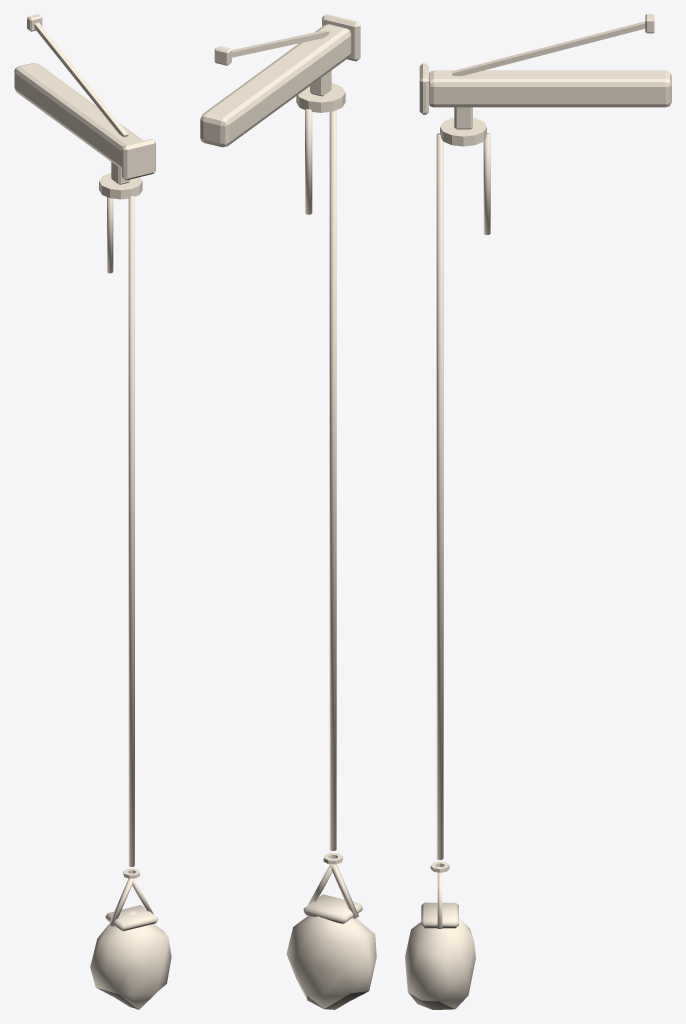
File: SM_VK_Prop_HoistBeam.fbx
3 renders of one model, left to right at view 1: azimuth 30°, elevation 25°; view 2: azimuth 150°, elevation 25°; view 3: azimuth 270°, elevation 25°, orthographic. The views are drawn at different scales.
Visible parts, largest first — view 1: SM_VK_Prop_HoistBeam.001; view 2: SM_VK_Prop_HoistBeam.001; view 3: SM_VK_Prop_HoistBeam.001.
Part boxes in pixels (x1,y1,x2,y2): SM_VK_Prop_HoistBeam.001: (14, 14, 171, 1009); SM_VK_Prop_HoistBeam.001: (200, 14, 376, 1009); SM_VK_Prop_HoistBeam.001: (405, 14, 671, 1009).
Bounding box in the file's own units: 0.5915 × 7 × 1.7.
